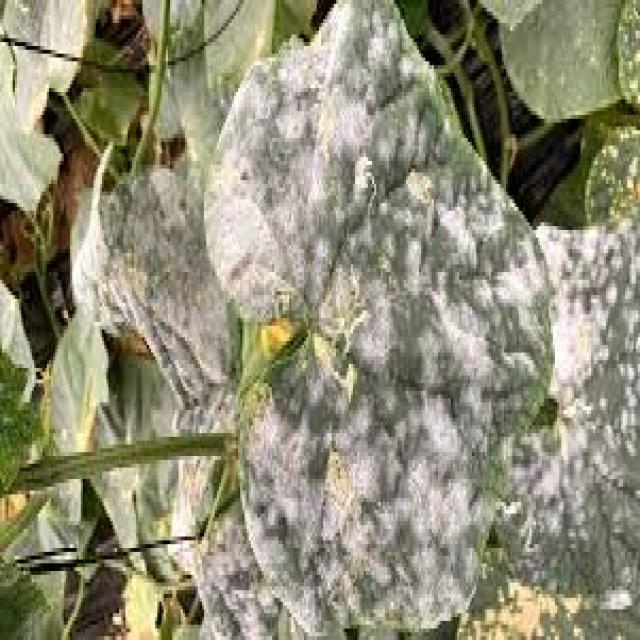powdery-mildew: (243, 77, 493, 542), (496, 232, 630, 550), (107, 191, 329, 372)
